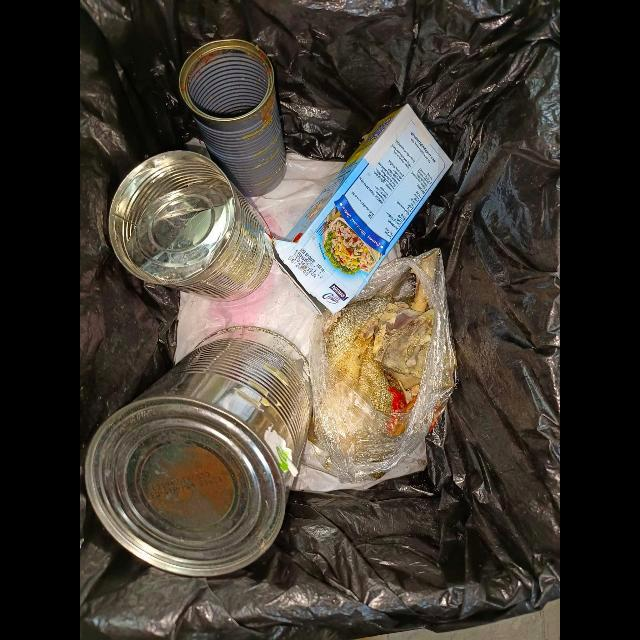aluminum: (84, 326, 312, 578), (108, 150, 274, 298), (179, 39, 287, 198)
left_over_food: (327, 273, 435, 414)
plastic_bag: (309, 250, 460, 482)
